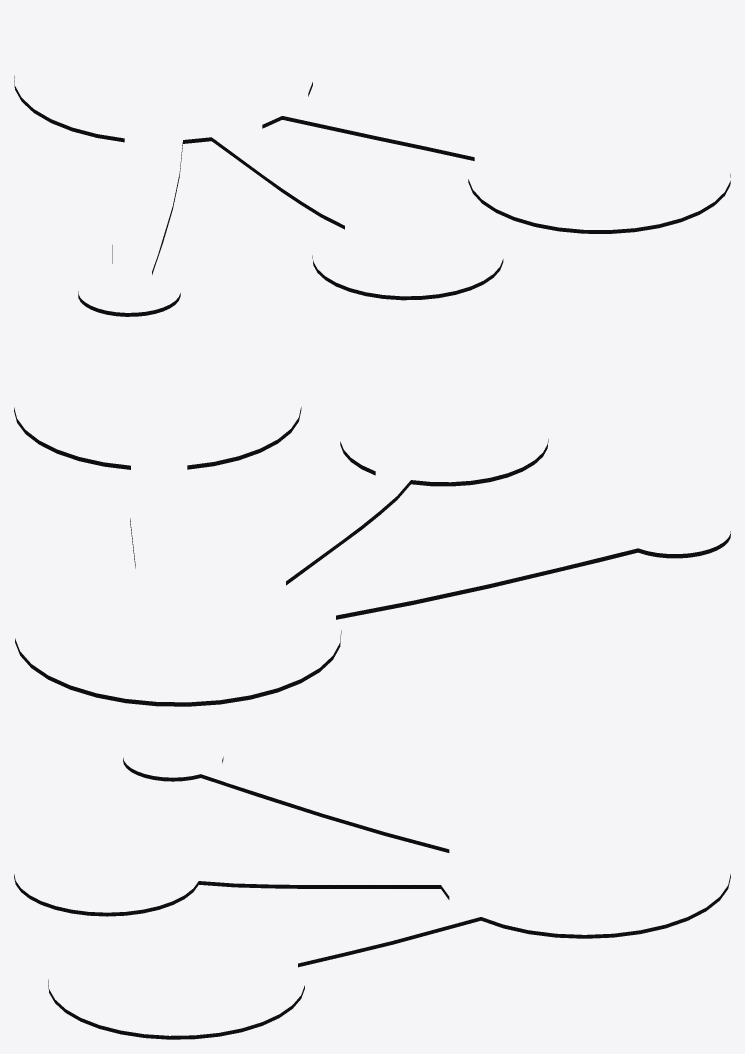
Rendered from HubFloorBorder_optimized.glb.
3 renders of one model, top to bottom at view 1: azimuth 30°, elevation 25°; view 2: azimuth 150°, elevation 25°; view 3: azimuth 270°, elevation 25°, orthographic. The views are drawn at different scales.
Visible parts, largest first — view 1: HubFloor.001; view 2: HubFloor.001; view 3: HubFloor.001.
Part boxes in pixels (x1,y1,x2,y2): HubFloor.001: [14, 75, 730, 316]; HubFloor.001: [14, 407, 730, 706]; HubFloor.001: [14, 757, 730, 1039].
Bounding box in the file's own units: 1741 × 10.81 × 1754.
Materials: 1 (1 with a texture image).
